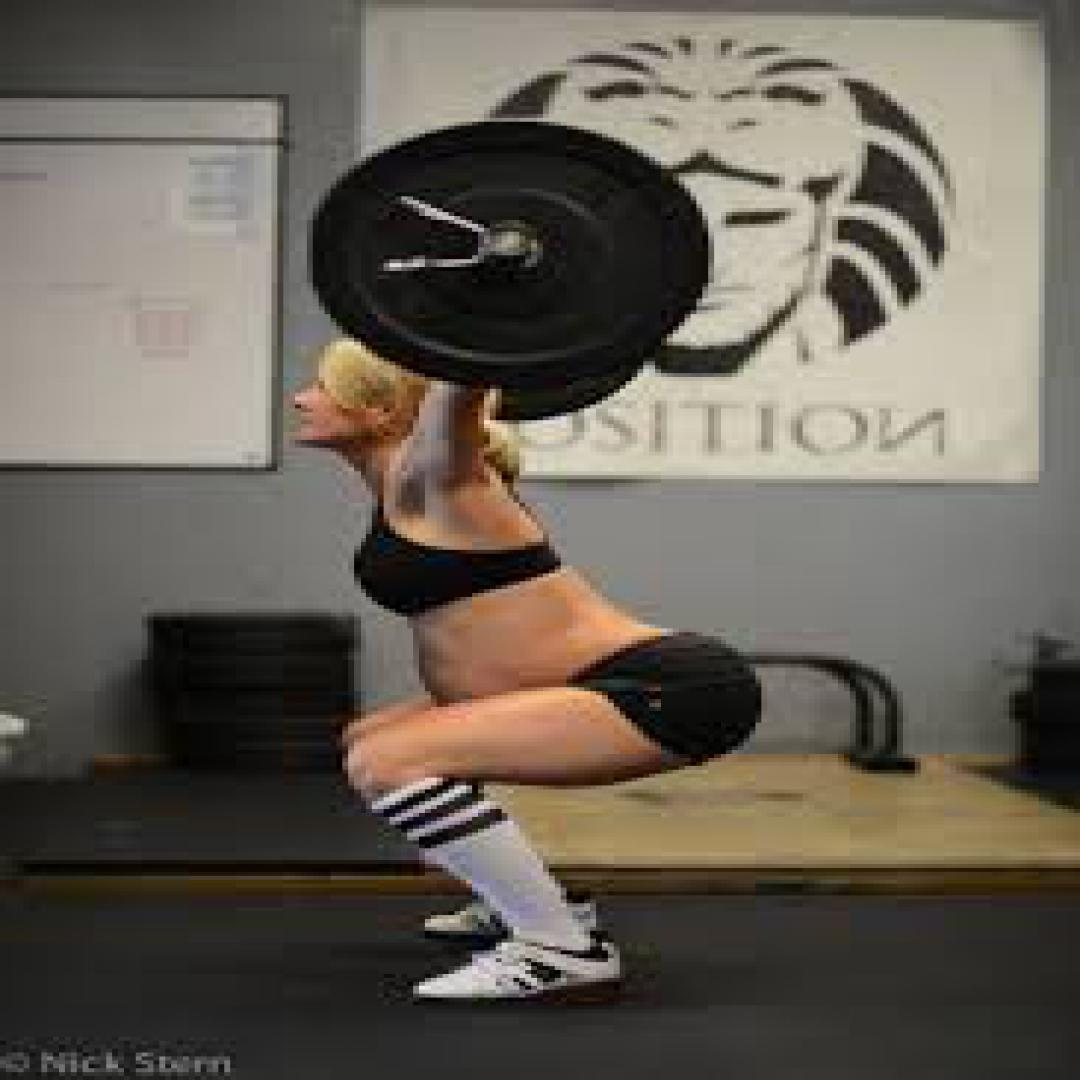Bar: (478, 220, 537, 259)
Barbell: (313, 118, 708, 385)
